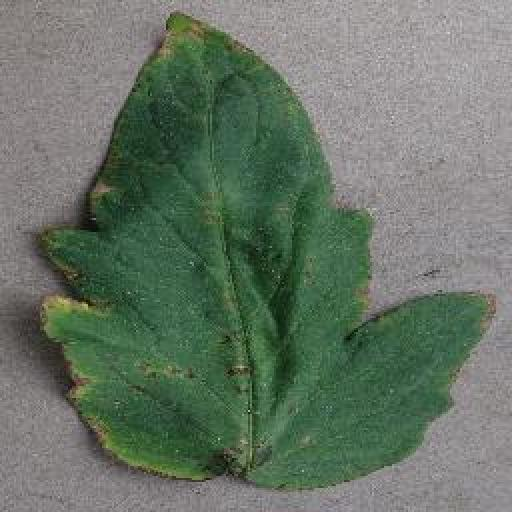Bacterial Spot: (33, 6, 499, 494)
